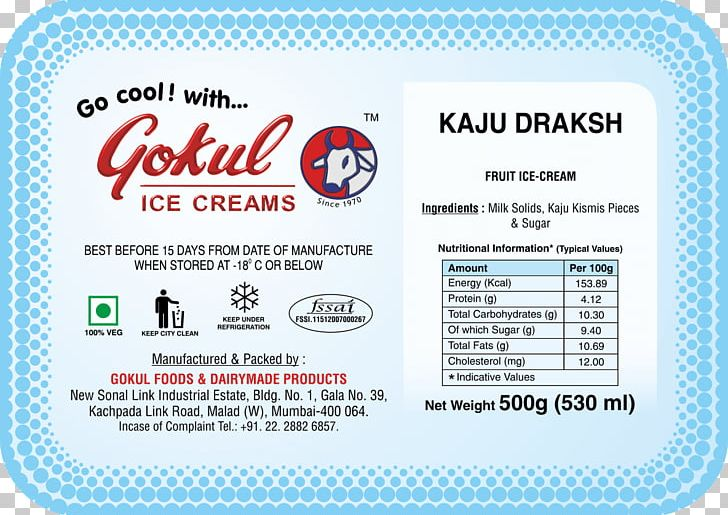VEG: (84, 293, 123, 340)
